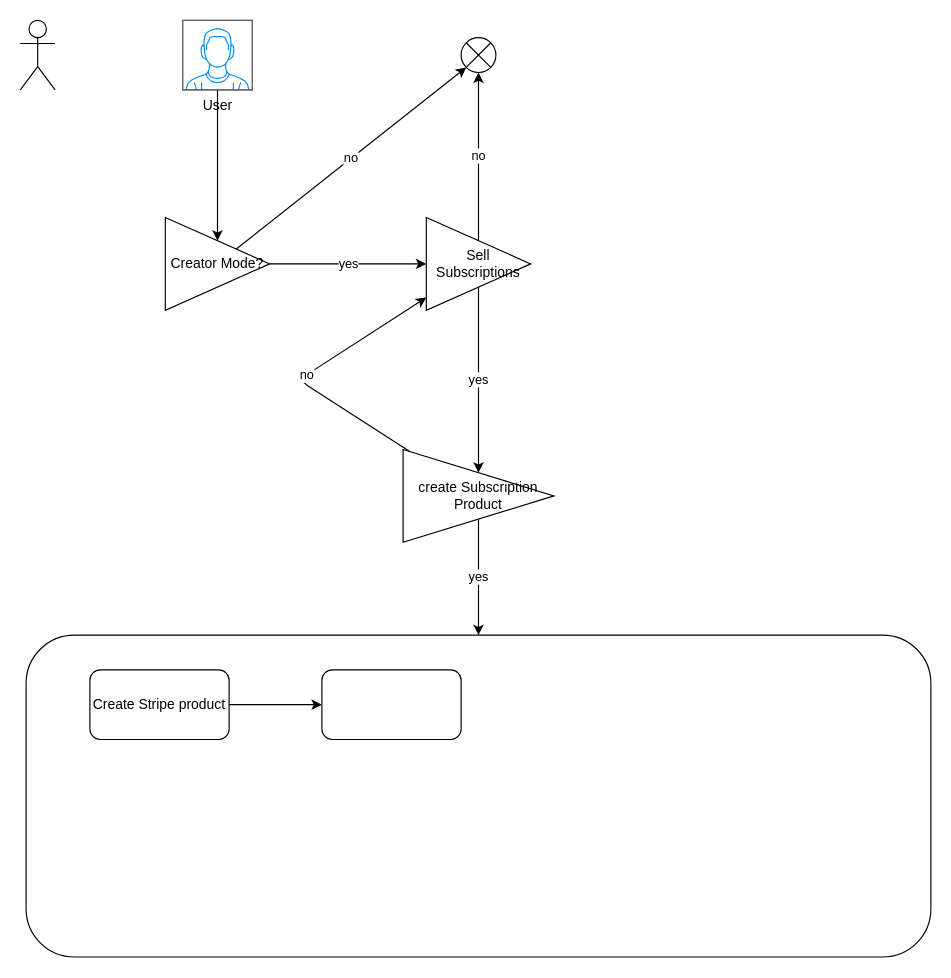
The diagram is 951 pixels wide and 978 high, and some of its shapes have lost their labels. Each missing label, with the centre of its shape:
"Actor" belongs at [37,54].
"Create Backen" belongs at [391,704].
"exit" belongs at [478,54].
